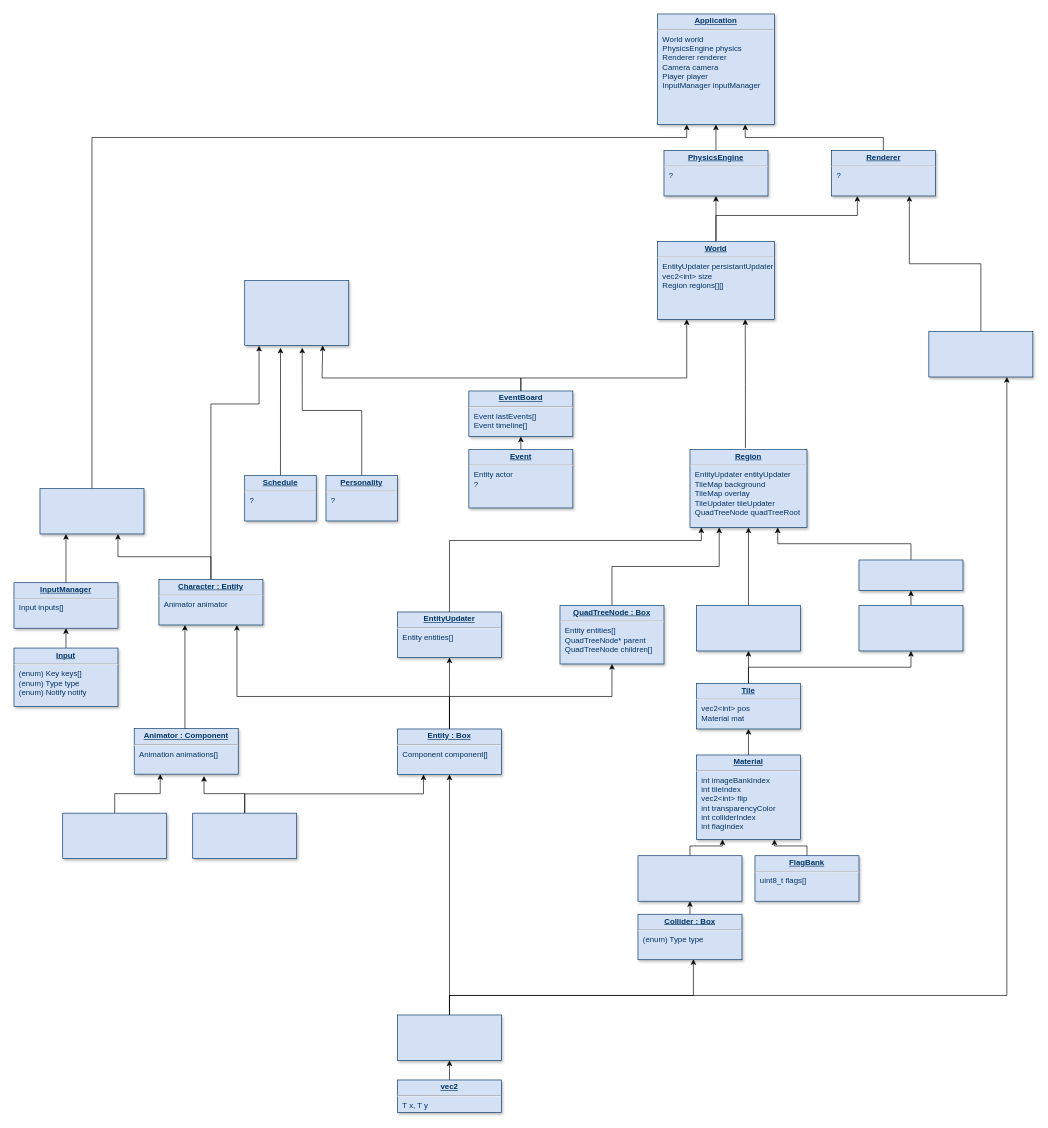
Some shapes in this 1048 by 1128 pixel diagram are drawn without their labels. Here are the shapes that lost their labels. From the top down, the centre of each, then its label:
the point at 297,313: NPC : Character Schedule schedule Personality personality
the point at 981,355: Camera : Box ?
the point at 92,512: Player : Character ?
the point at 911,576: TileUpdater TileRule rules[]
the point at 748,629: TileMap vec2<int> size Tile data[][]
the point at 911,629: TileRule ?
the point at 115,836: Animation int imageBankIndex ?
the point at 245,836: Component (enum) Type type
the point at 690,879: ColliderBank Collider collider[]
the point at 449,1038: Box vec2<T> pos vec2<T> size
